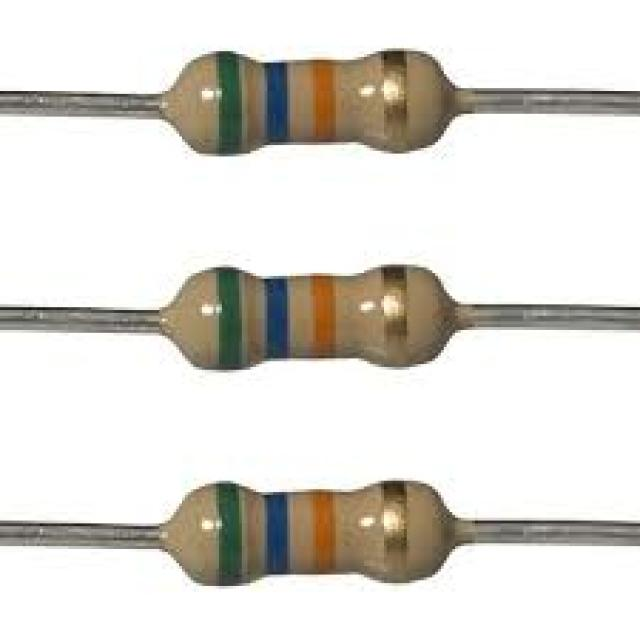Resistor: (156, 478, 472, 586), (160, 266, 460, 366), (166, 49, 448, 154)
